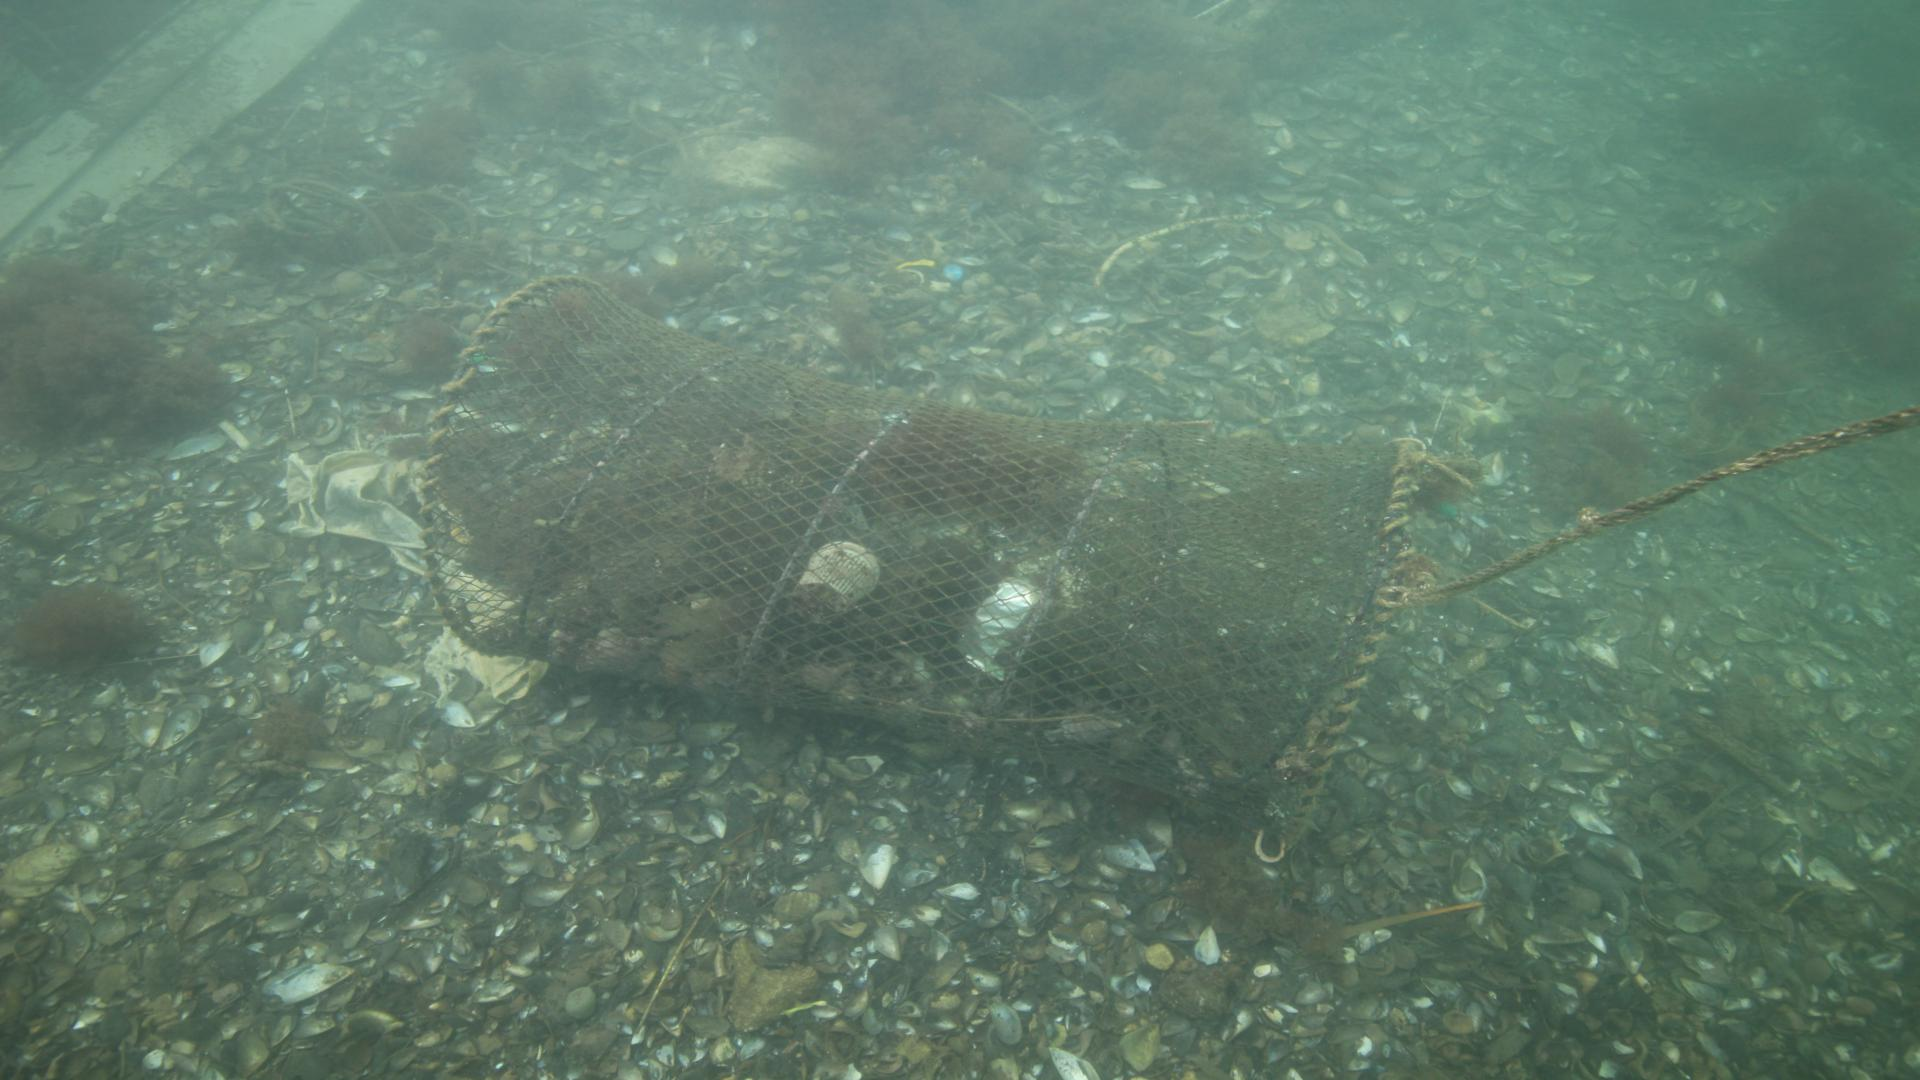rope: (1408, 407, 1917, 611)
spring fish trap: (417, 273, 1418, 843)
